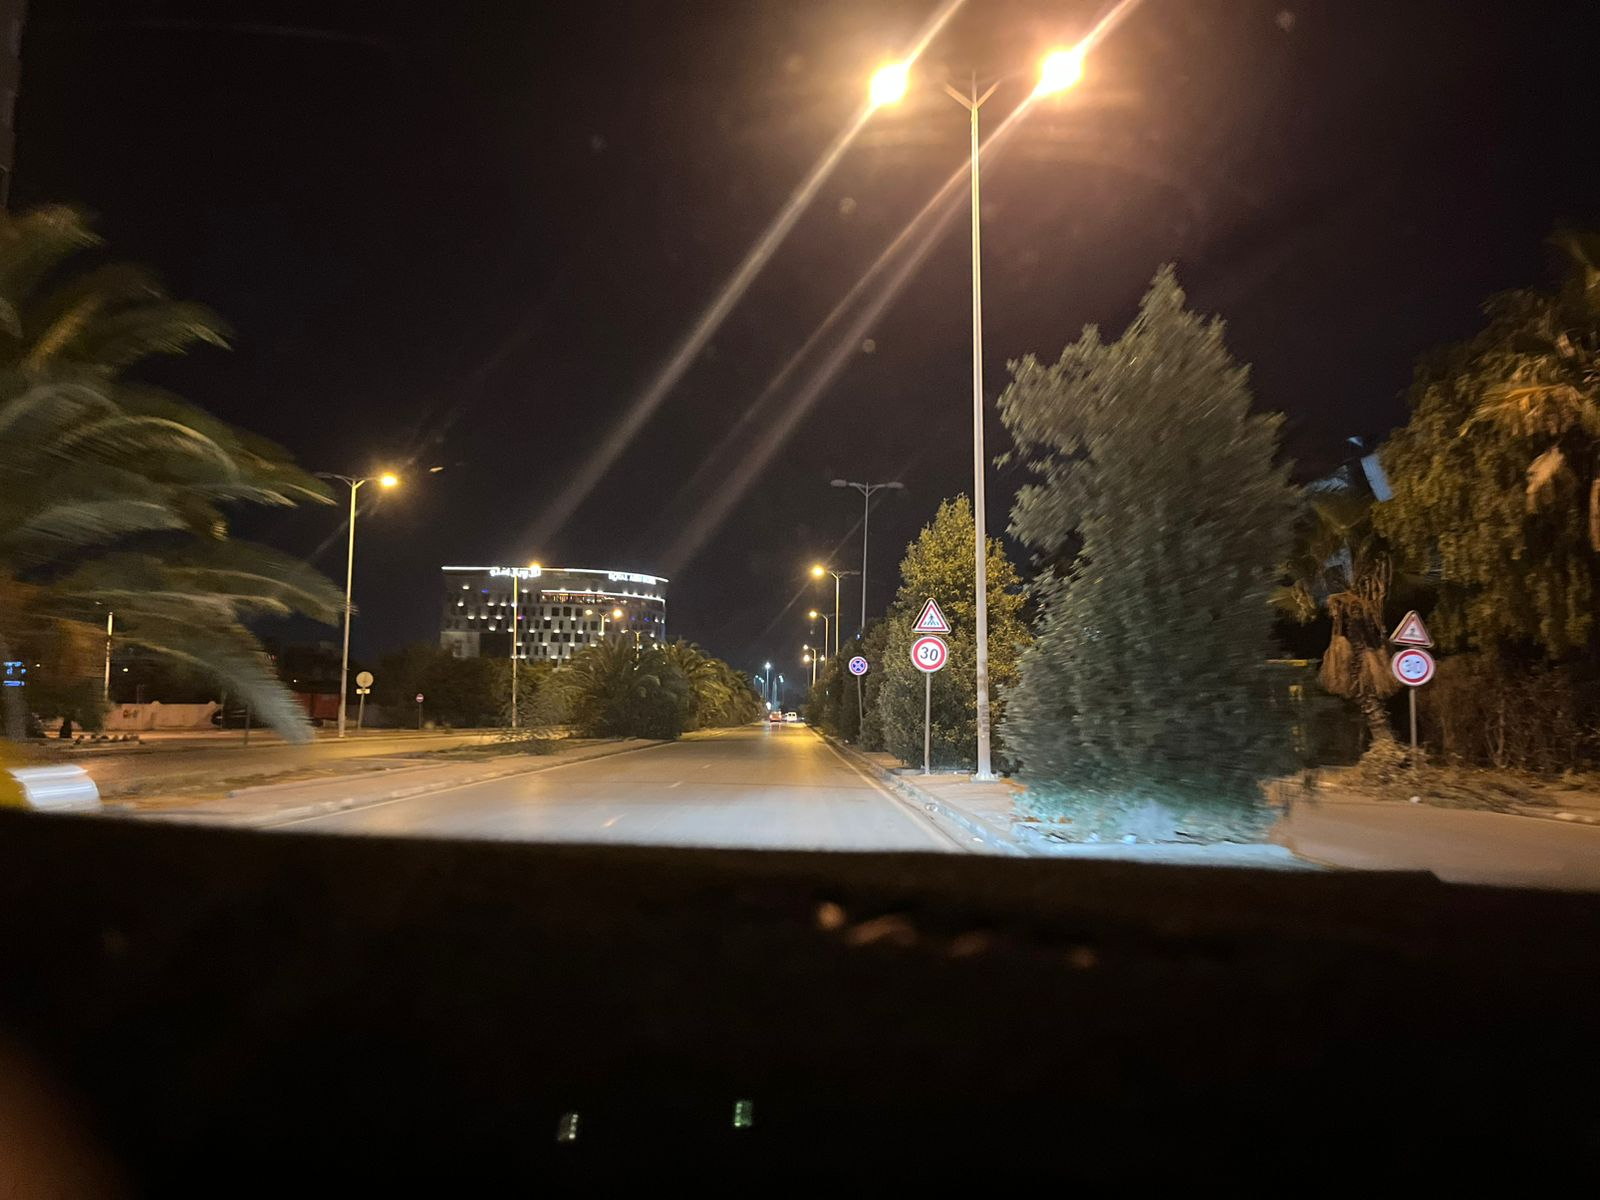SpeedLimit30: (910, 634, 949, 673)
